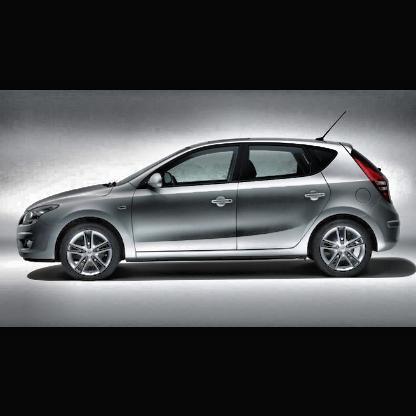Hyundai Elantra Touring Hatchback 2012: (14, 105, 405, 277)
